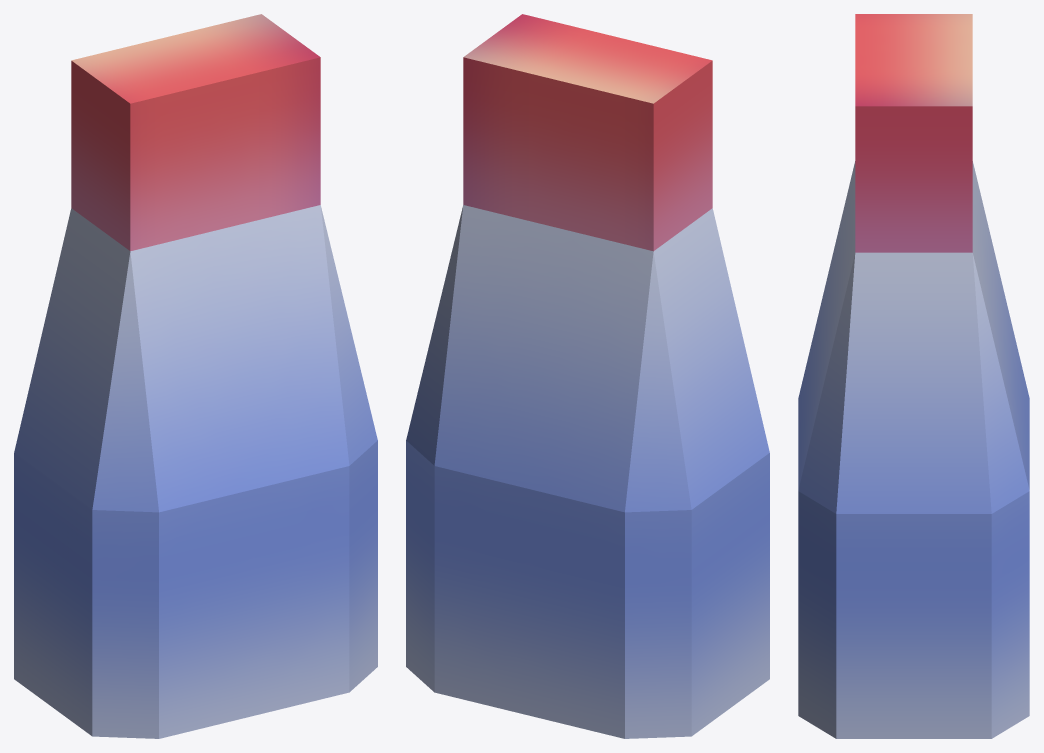
The model's file is giftgoods107f.fbx.
The picture shows the model from 3 angles, left to right: view 1: azimuth 30°, elevation 25°; view 2: azimuth 150°, elevation 25°; view 3: azimuth 270°, elevation 25°; orthographic projection.
Visible parts, largest first — view 1: giftgoods107f; view 2: giftgoods107f; view 3: giftgoods107f.
Part boxes in pixels (x1,y1,x2,y2): giftgoods107f: (14, 14, 377, 738); giftgoods107f: (406, 14, 769, 738); giftgoods107f: (798, 14, 1029, 738).
Bounding box in the file's own units: 0.0443 × 0.0911 × 0.0313.
